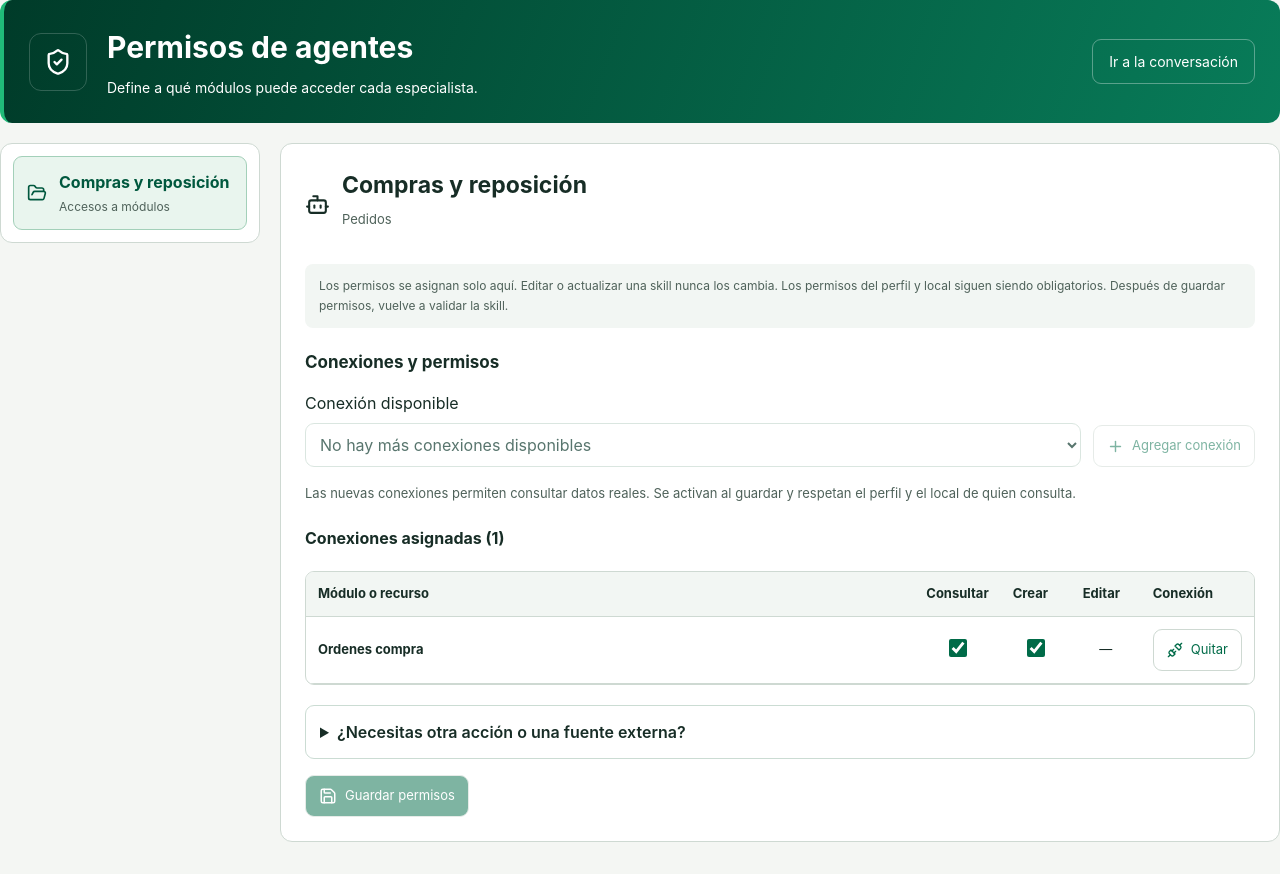
keeps permission editing in its separate page and only saves accesses
The width and height of the screenshot is (1280, 874).
Click the checkbox named "Crear Ordenes compra" at (1036, 648), box [1027,639,1045,657]
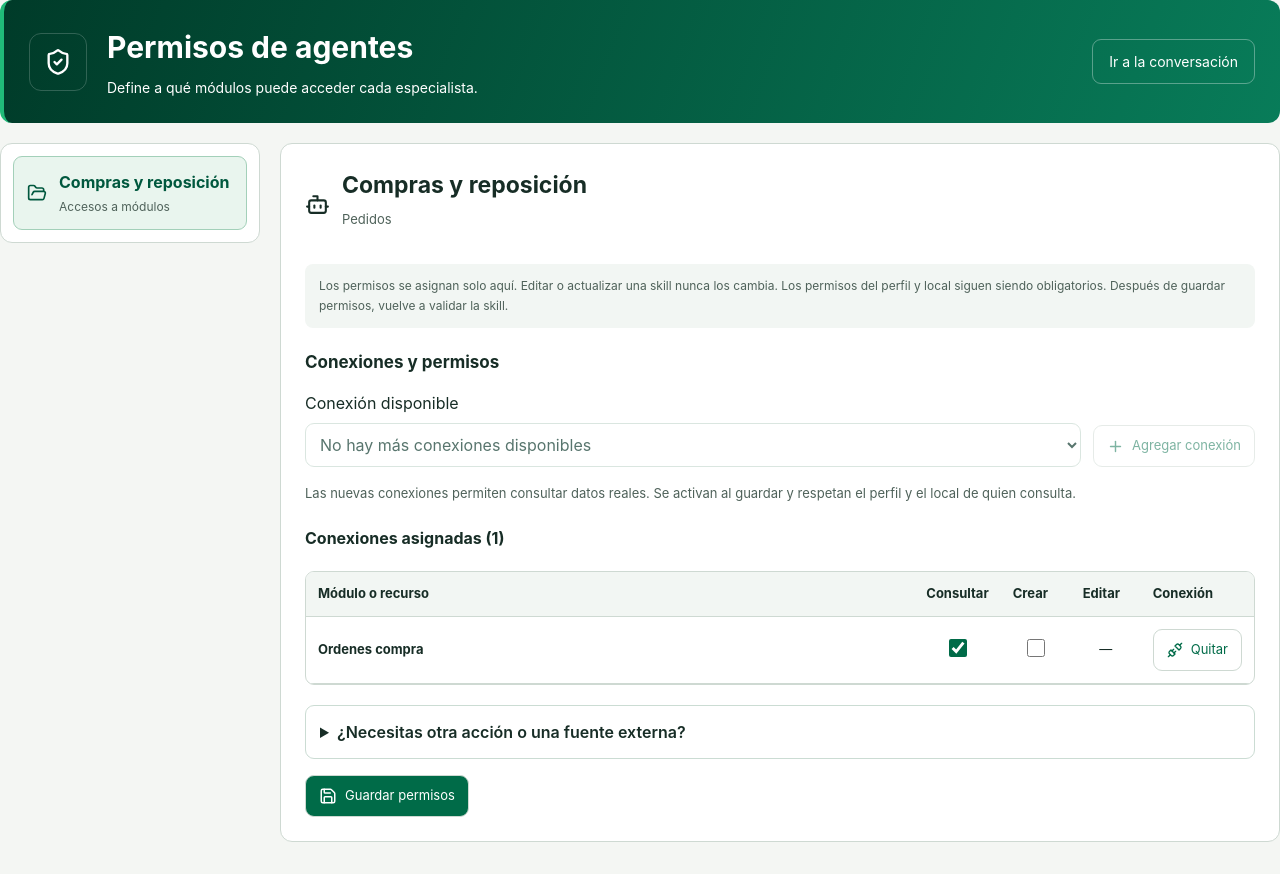
Click the button "Guardar permisos" at (387, 796), box [305,774,469,816]
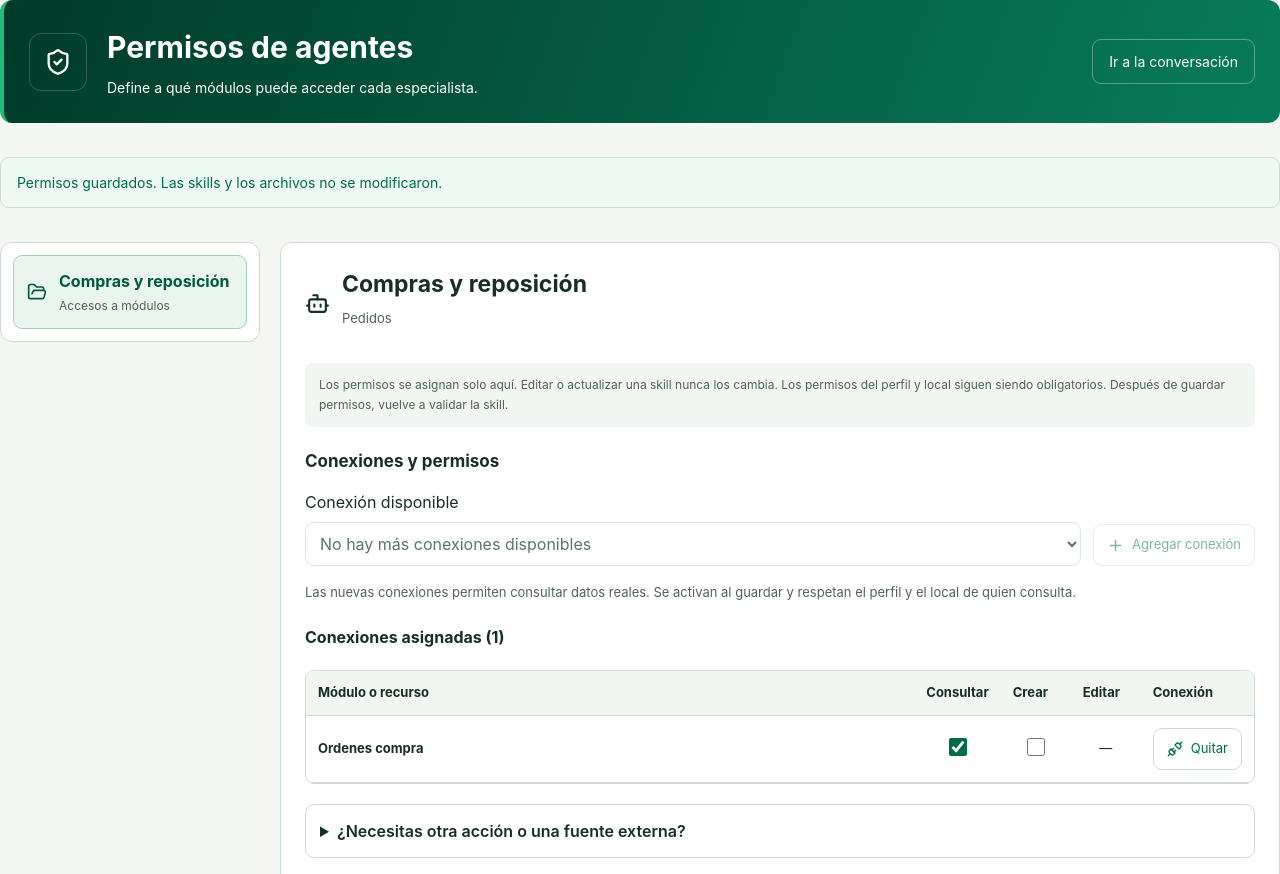
Expected: the text "Permisos guardados. Las skills y los archivos no se modificaron." is shown, [0,157,1279,208]
